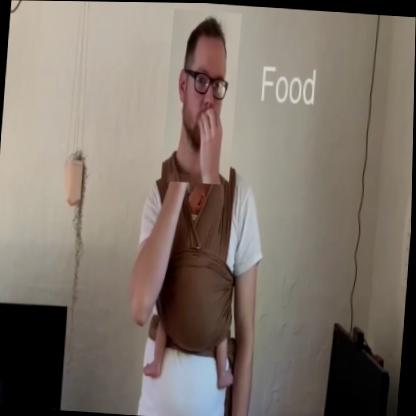Food: (162, 8, 242, 184)
